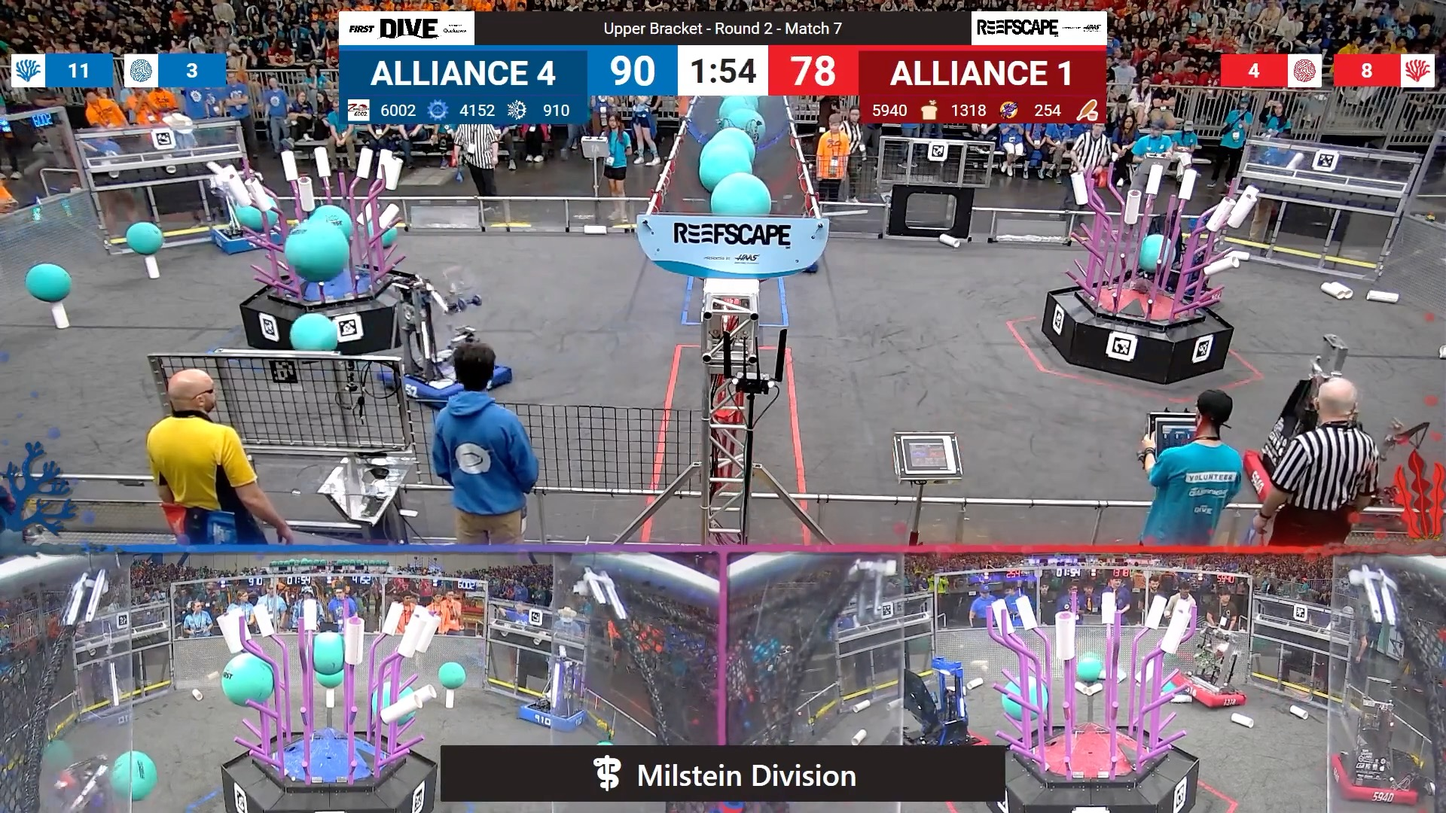bumpers: (378, 355, 523, 402), (1328, 748, 1430, 809), (208, 220, 292, 257), (512, 699, 594, 735), (1162, 679, 1249, 710)
